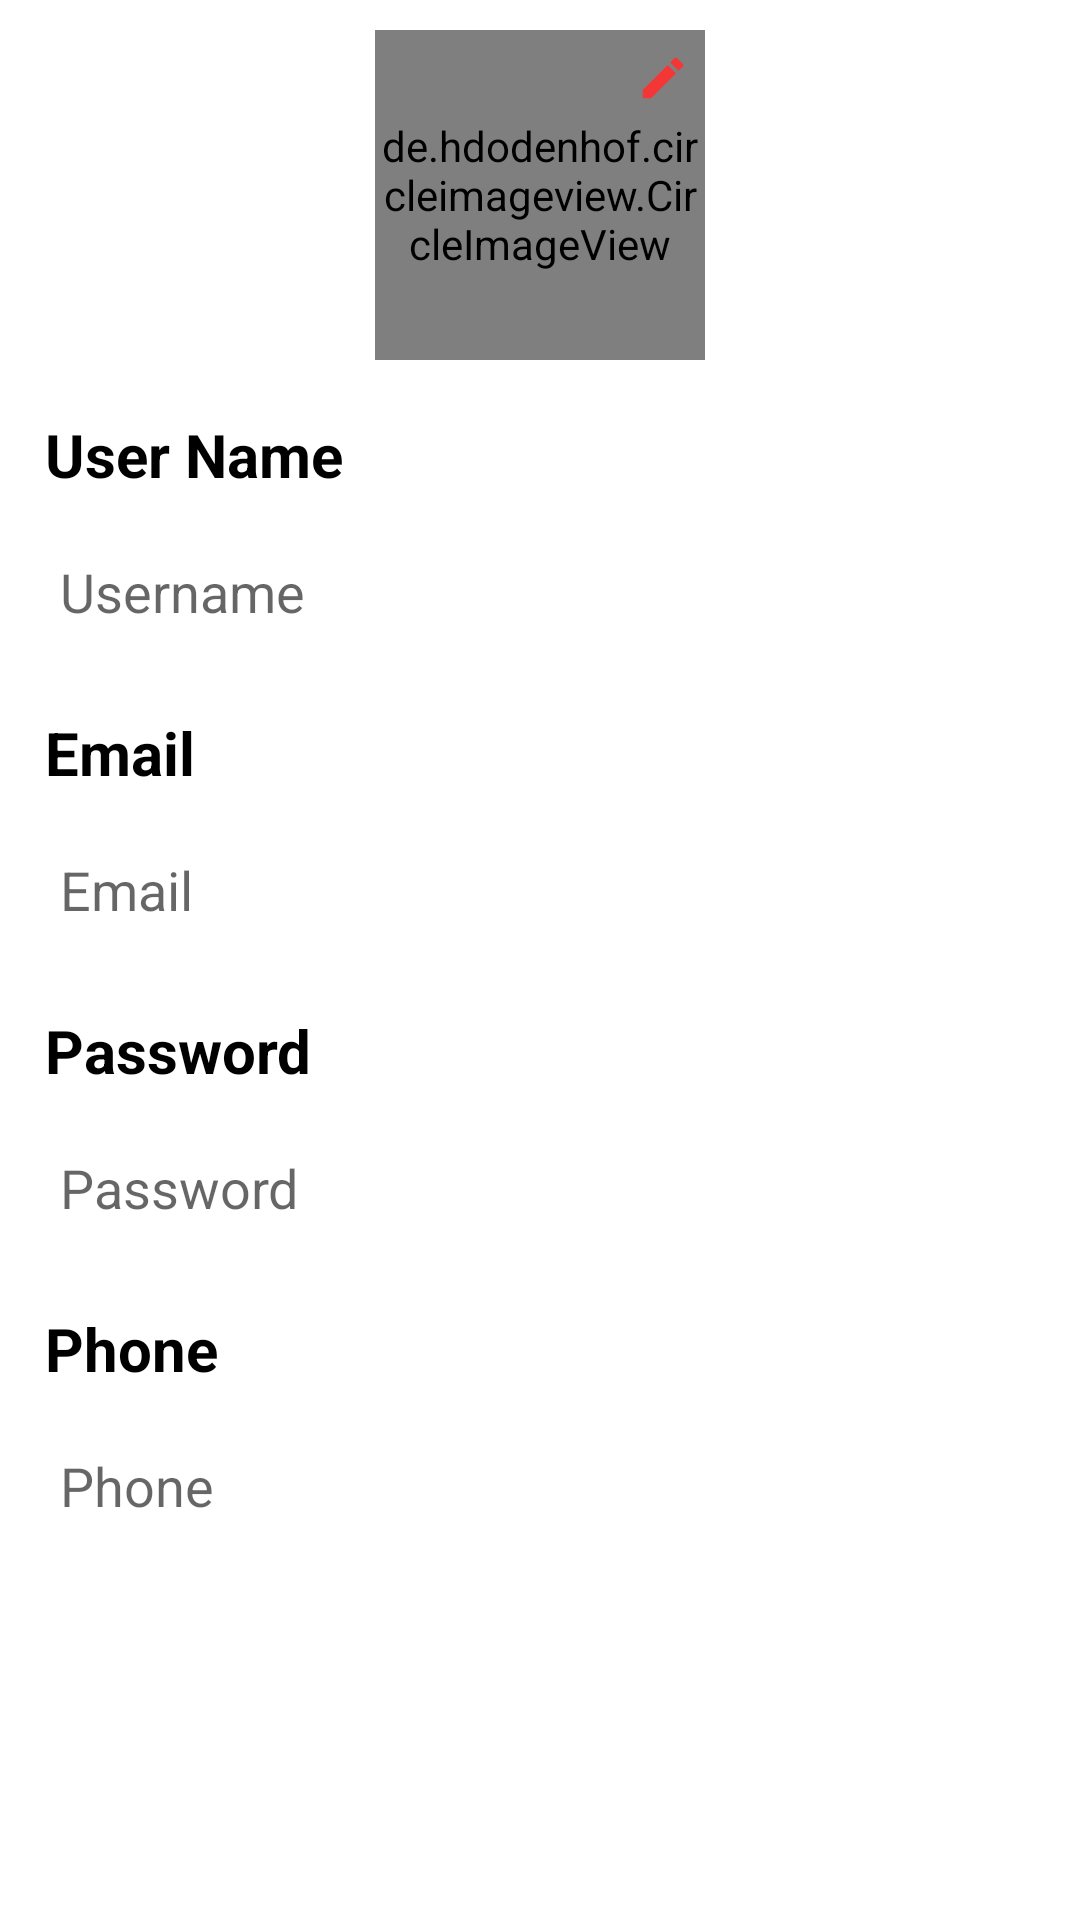

Where icons sit on this 1080w x 1920h app screen, as (x1, y1, x2, y2):
edit: (642, 57, 684, 99)
